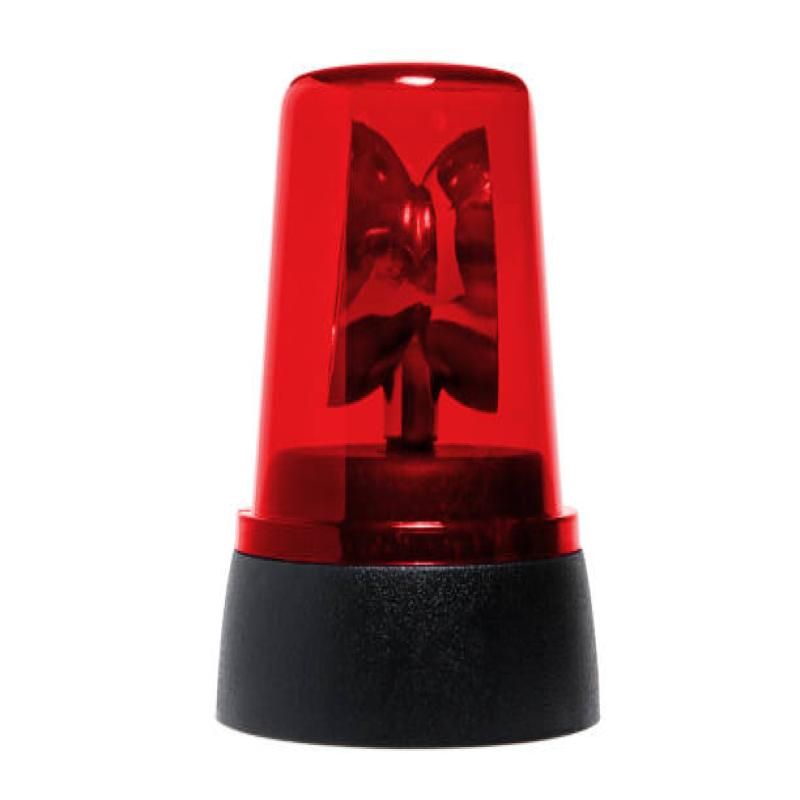AmbulanceSiren: (212, 34, 610, 741)
